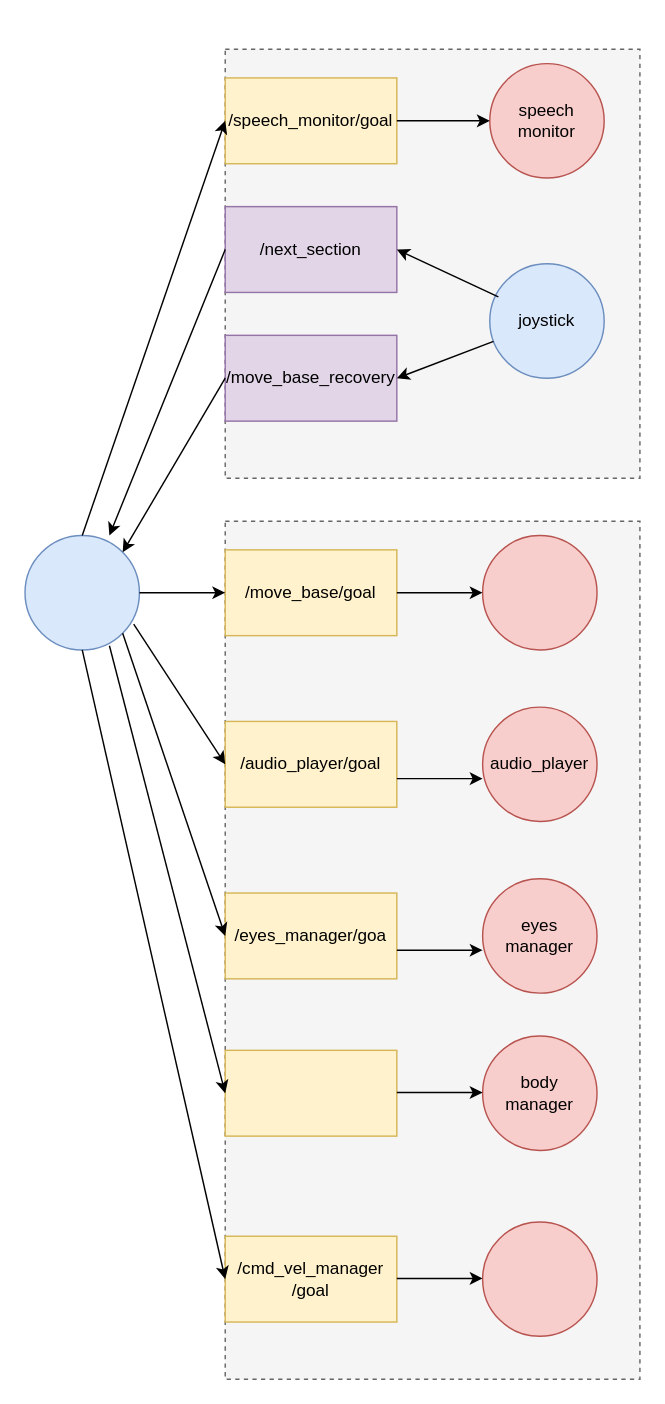
Some shapes in this 665 by 1404 pixel diagram are drawn without their labels. Each missing label, with the box of its shape:
/body_manager/goal: (224, 1049, 397, 1136)
actions managers: (224, 520, 640, 1379)
cmd_vel manager: (481, 1221, 597, 1336)
main controller: (24, 534, 139, 650)
move_base: (481, 534, 597, 650)
user inputs: (224, 48, 640, 478)
